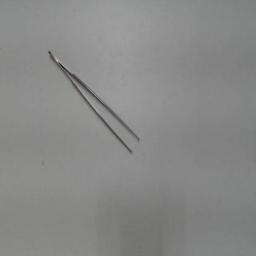Gillies Toothed Dissector: (44, 41, 148, 161)
